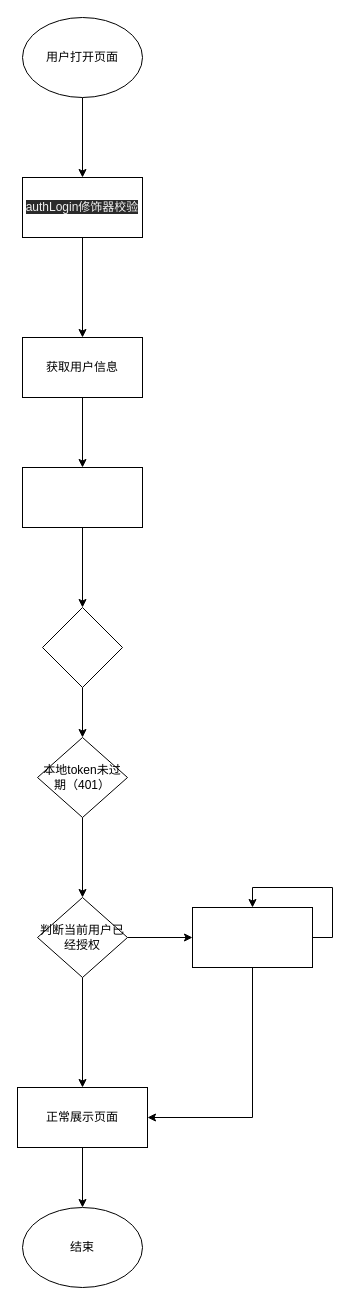
This 358x1305 diagram has some shape labels left out. Each missing label, with the box of its shape:
本地有Token: (42, 606, 122, 688)
获取用户Token: (22, 466, 142, 528)
跳转授权页面: (192, 906, 312, 968)
